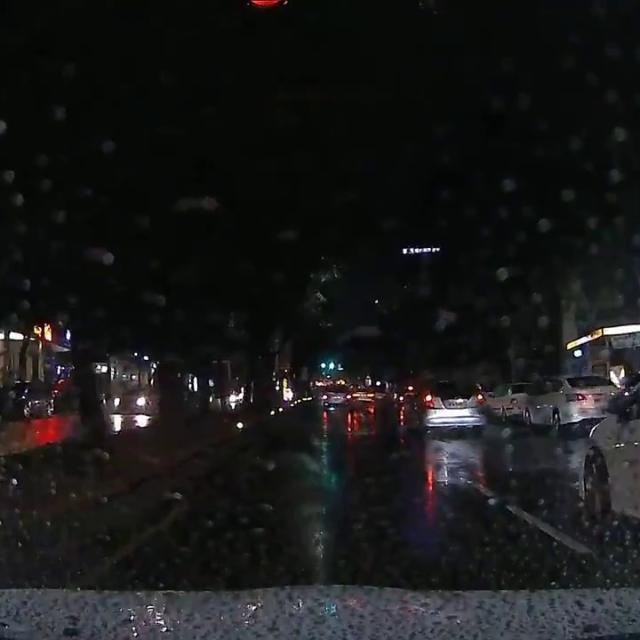Car: (577, 370, 639, 532), (521, 374, 621, 435), (396, 376, 485, 436), (0, 378, 55, 422), (486, 379, 534, 424), (108, 385, 151, 415), (318, 377, 354, 411), (348, 383, 376, 403)
